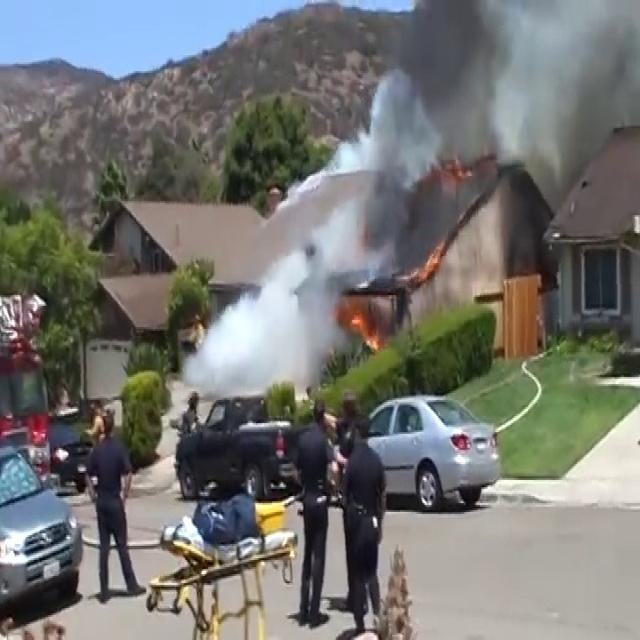Smoke: (315, 0, 534, 267), (174, 249, 347, 400), (536, 0, 640, 204)
